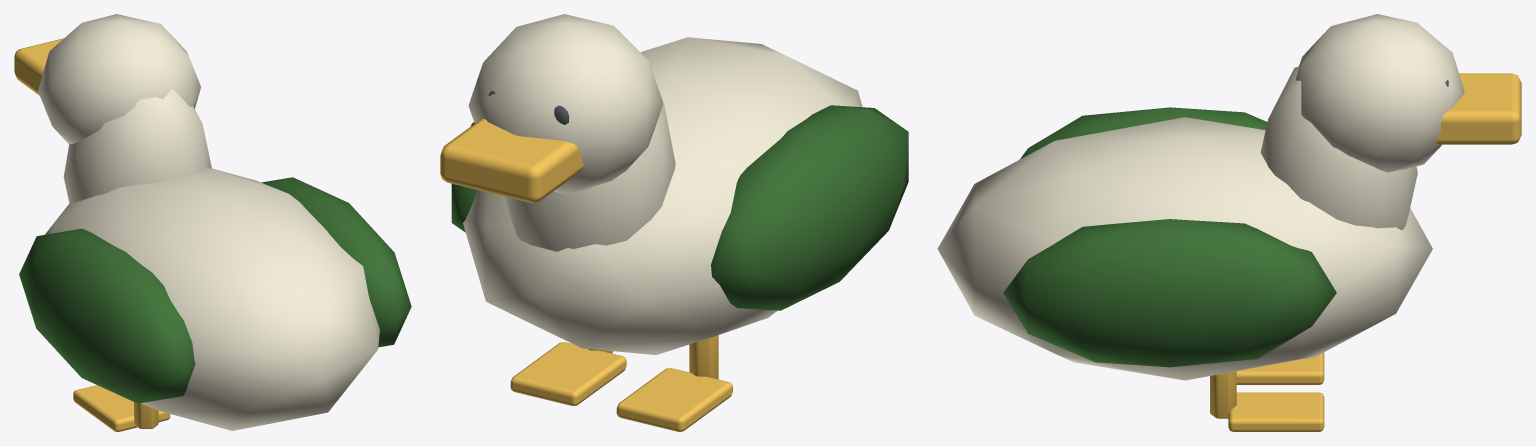
File: duck.glb
The picture shows the model from 3 angles, left to right: view 1: azimuth 30°, elevation 25°; view 2: azimuth 150°, elevation 25°; view 3: azimuth 270°, elevation 25°; orthographic projection. The views are drawn at different scales.
Visible parts, largest first — view 1: duck_body, duck_wing_-0.52, duck_head, duck_neck, duck_wing_0.52, duck_webbed_foot_-0.22, duck_beak, duck_leg_-0.22; view 2: duck_body, duck_wing_-0.52, duck_head, duck_neck, duck_beak, duck_webbed_foot_-0.22, duck_webbed_foot_0.22, duck_leg_-0.22, duck_wing_0.52; view 3: duck_body, duck_wing_0.52, duck_head, duck_neck, duck_beak, duck_webbed_foot_0.22, duck_wing_-0.52, duck_webbed_foot_-0.22, duck_leg_0.22.
Part boxes in pixels (left/top/right/bottom): duck_body: left=45, top=168, right=379, bottom=430; duck_wing_-0.52: left=19, top=228, right=195, bottom=403; duck_head: left=38, top=14, right=200, bottom=144; duck_neck: left=63, top=89, right=211, bottom=203; duck_wing_0.52: left=261, top=177, right=411, bottom=347; duck_webbed_foot_-0.22: left=73, top=385, right=170, bottom=431; duck_beak: left=14, top=38, right=63, bottom=95; duck_leg_-0.22: left=134, top=402, right=158, bottom=428; duck_body: left=463, top=37, right=862, bottom=354; duck_wing_-0.52: left=711, top=105, right=908, bottom=310; duck_head: left=468, top=14, right=663, bottom=194; duck_neck: left=503, top=103, right=675, bottom=251; duck_beak: left=440, top=118, right=583, bottom=202; duck_webbed_foot_-0.22: left=616, top=368, right=732, bottom=431; duck_webbed_foot_0.22: left=510, top=342, right=626, bottom=405; duck_leg_-0.22: left=689, top=335, right=718, bottom=379; duck_wing_0.52: left=451, top=122, right=477, bottom=232; duck_body: left=937, top=117, right=1432, bottom=380; duck_wing_0.52: left=1003, top=219, right=1336, bottom=367; duck_head: left=1295, top=14, right=1464, bottom=172; duck_neck: left=1260, top=66, right=1417, bottom=229; duck_beak: left=1436, top=73, right=1521, bottom=144; duck_webbed_foot_0.22: left=1228, top=392, right=1324, bottom=431; duck_wing_-0.52: left=1020, top=107, right=1267, bottom=159; duck_webbed_foot_-0.22: left=1236, top=352, right=1324, bottom=384; duck_leg_0.22: left=1210, top=371, right=1236, bottom=418.
Bounding box in the file's own units: 1.5 × 1.63 × 2.31.
